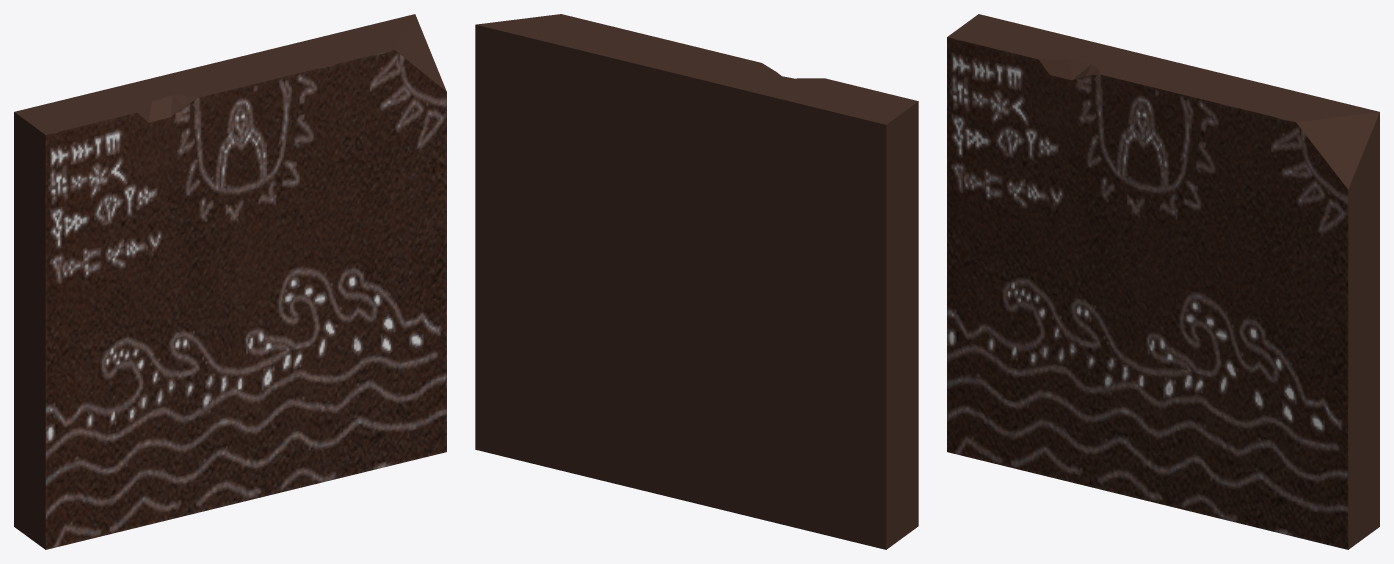
The model's file is Rock_01.FBX.
The picture shows the model from 3 angles, left to right: view 1: azimuth 30°, elevation 25°; view 2: azimuth 150°, elevation 25°; view 3: azimuth 330°, elevation 25°; orthographic projection. The views are drawn at different scales.
Visible parts, largest first — view 1: Rock_01; view 2: Rock_01; view 3: Rock_01.
Boxes of the visible parts, box(x1,y1,x2,y2) form: Rock_01: box(14, 14, 446, 549); Rock_01: box(475, 14, 918, 549); Rock_01: box(947, 14, 1379, 549).
Bounding box in the file's own units: 233 × 230 × 31.76.
Materials: 1 (1 with a texture image).
